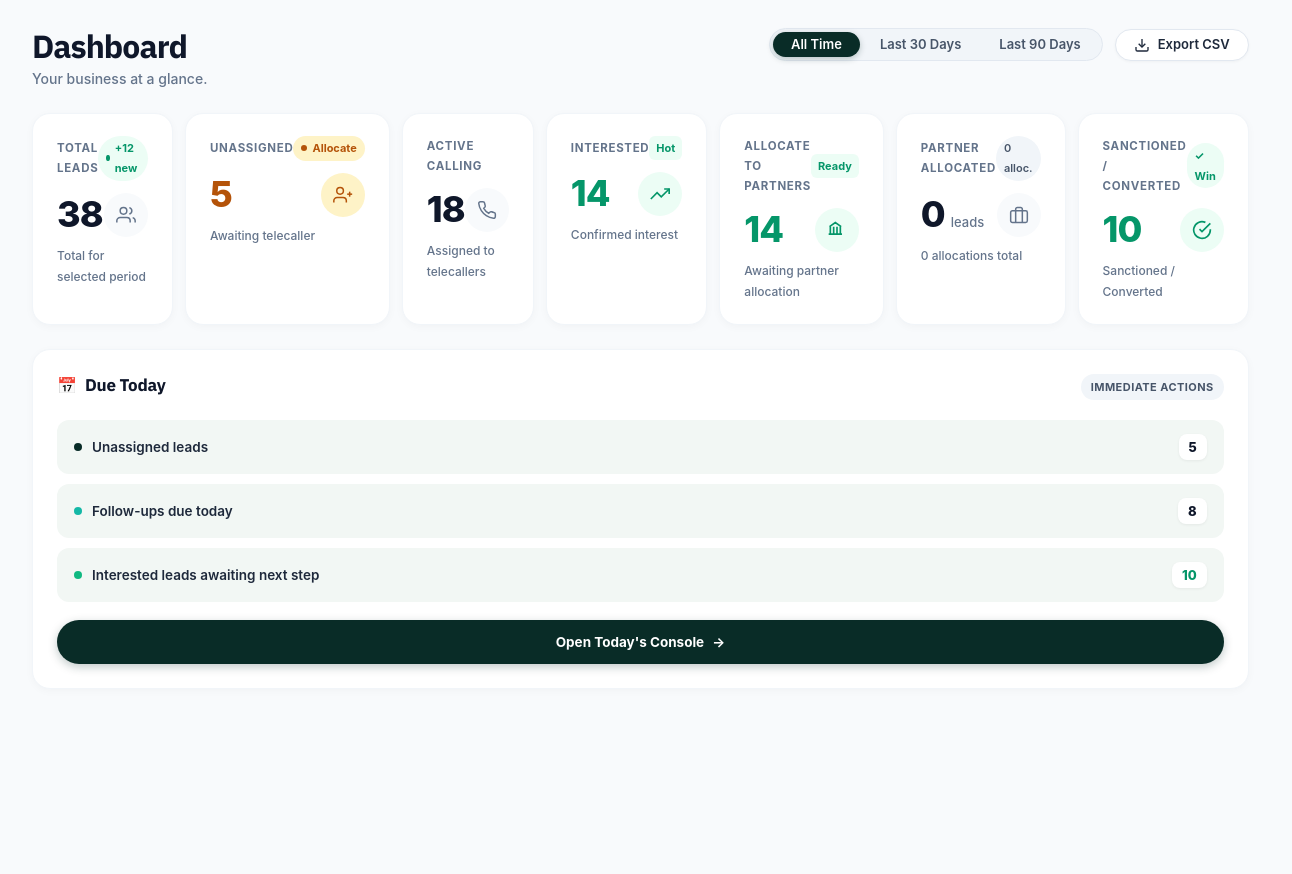
Test: DSA OS — Clickable Dashboard & Lead Management Journey › clicking Due Today Follow-ups row opens follow-ups-due-today view
Click the button with test id "due-row-follow-ups" at (162, 511), box [57,484,1224,538]
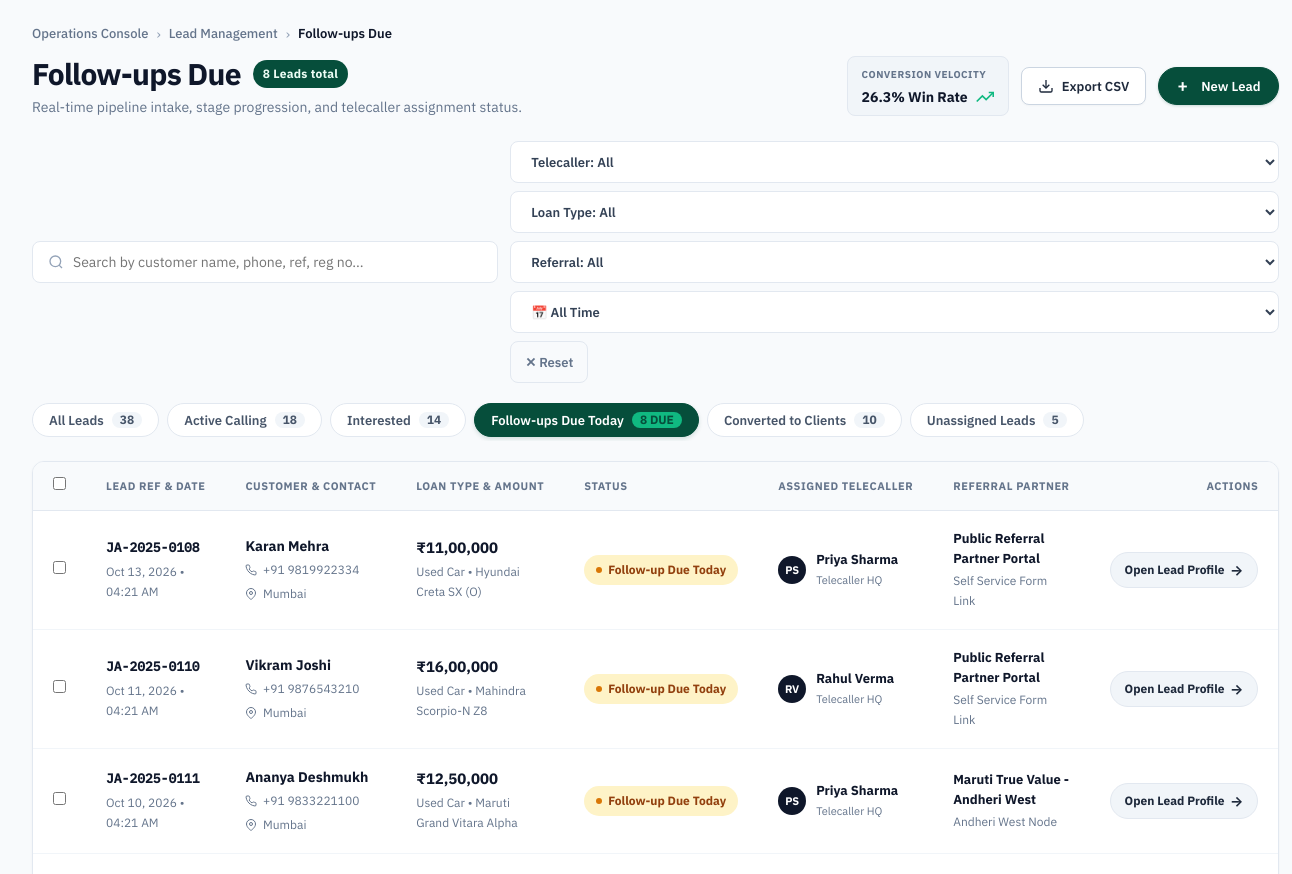
expect the heading "Follow-ups Due" is shown: met, box [32,56,241,92]
